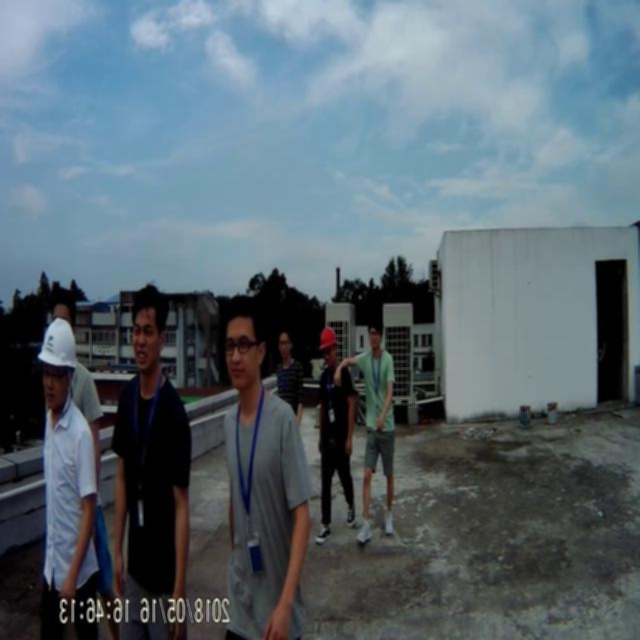Con_Casco: (38, 318, 77, 405)
Sin_Casco_Mascarrilla: (224, 295, 263, 389), (131, 284, 170, 367)
Sin_Chaleco: (226, 401, 309, 604), (113, 376, 191, 583)
